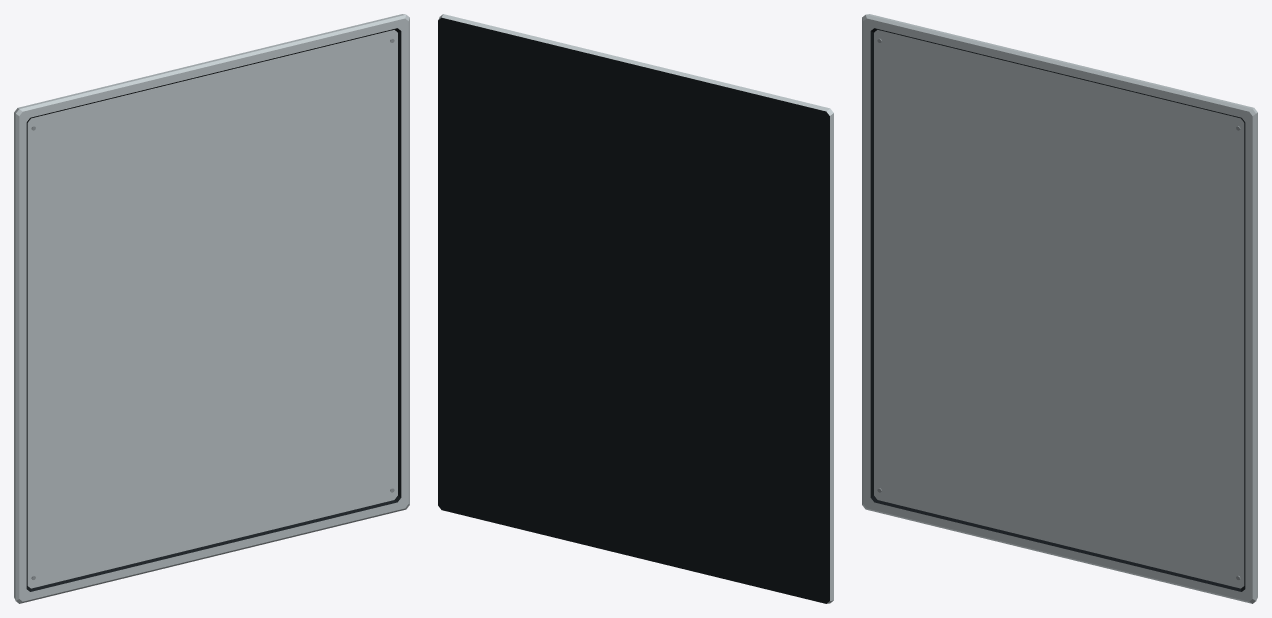
File: AD_panel_Manufactured.fbx
3 views of the same model, side by side, from view 1: azimuth 30°, elevation 25°; view 2: azimuth 150°, elevation 25°; view 3: azimuth 330°, elevation 25° (orthographic).
Parts seen in each view (by area): view 1: AD_panel_Manufactured; view 2: AD_panel_Manufactured; view 3: AD_panel_Manufactured.
Part boxes in pixels (left/top/right/bottom): AD_panel_Manufactured: left=14, top=14, right=409, bottom=603; AD_panel_Manufactured: left=438, top=14, right=833, bottom=603; AD_panel_Manufactured: left=862, top=14, right=1257, bottom=603.
Bounding box in the file's own units: 1 × 1.2 × 0.0176.
